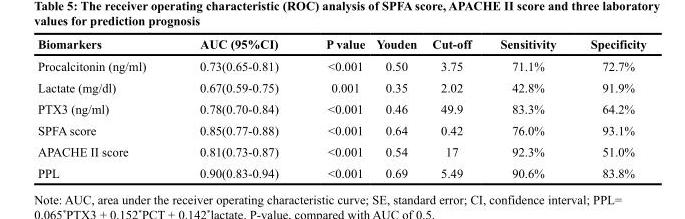table: (37, 36, 645, 179)
table column: (37, 36, 172, 179), (172, 36, 301, 179), (485, 36, 572, 179), (572, 36, 645, 179), (301, 36, 369, 179), (423, 36, 485, 179), (369, 36, 423, 179)
table column header: (37, 36, 645, 54)
table row: (37, 54, 645, 76), (37, 97, 645, 119), (37, 140, 645, 162), (37, 76, 645, 97), (37, 119, 645, 140), (37, 36, 645, 54), (37, 162, 645, 179)
